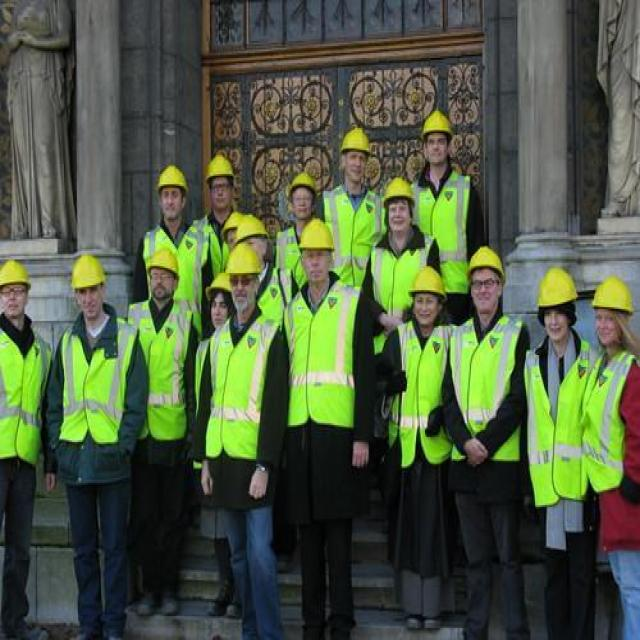Vest: (282, 271, 362, 430), (522, 337, 595, 510), (204, 306, 282, 462), (55, 309, 141, 444), (447, 318, 527, 462), (123, 297, 198, 444), (389, 321, 460, 469), (581, 348, 639, 493), (0, 309, 55, 461), (142, 218, 210, 336), (414, 168, 474, 296), (371, 235, 428, 354), (326, 189, 391, 287), (190, 334, 213, 472), (200, 208, 247, 275), (276, 220, 312, 289), (258, 263, 294, 328)
